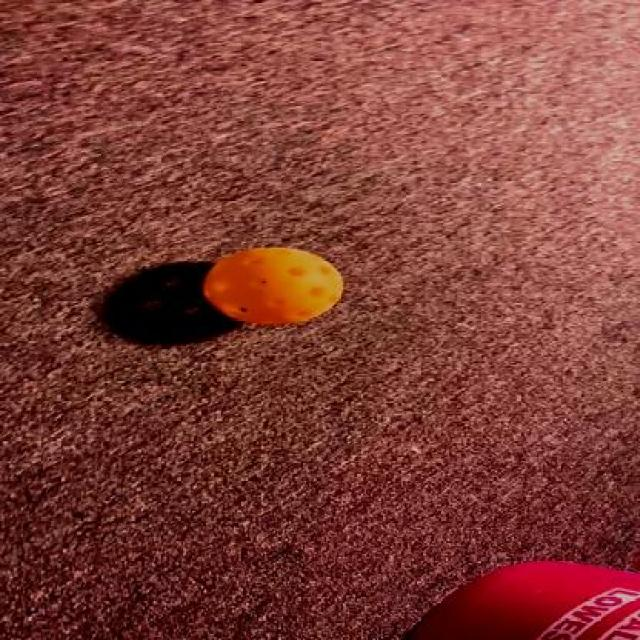ball: (204, 242, 350, 330)
